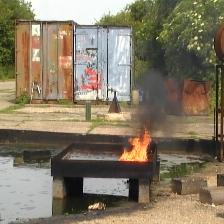fire: (120, 126, 151, 162)
